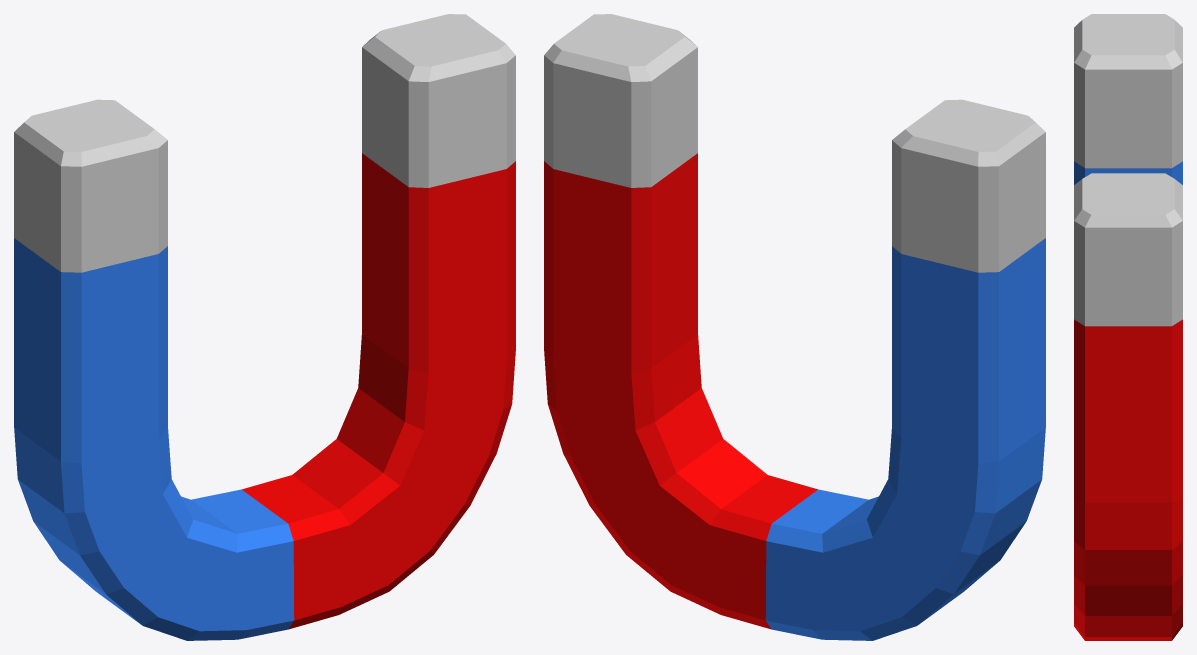
Rendered from Magnet.fbx.
The picture shows the model from 3 angles, left to right: view 1: azimuth 30°, elevation 25°; view 2: azimuth 150°, elevation 25°; view 3: azimuth 270°, elevation 25°; orthographic projection. The views are drawn at different scales.
Parts seen in each view (by area): view 1: Magnet; view 2: Magnet; view 3: Magnet.
Part boxes in pixels (bbox=[...]): Magnet: bbox=[14, 14, 515, 640]; Magnet: bbox=[544, 14, 1045, 640]; Magnet: bbox=[1074, 14, 1182, 640].
Size of the model in its own units: 49.91 by 55.48 by 11.1.
